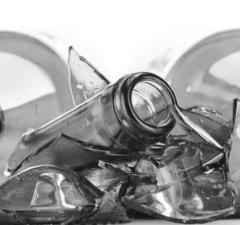glass: (2, 43, 240, 225)
